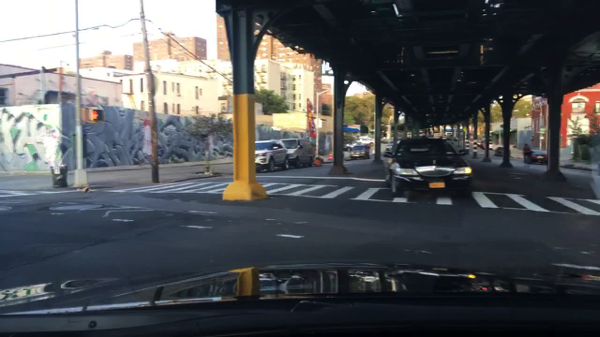car: (384, 136, 474, 200), (253, 140, 291, 170), (279, 139, 316, 168), (528, 150, 550, 165), (351, 146, 370, 162), (493, 147, 508, 158), (340, 147, 351, 160), (385, 144, 395, 153), (484, 143, 491, 150)
person: (523, 143, 530, 167)
traffic light: (87, 108, 104, 122)
